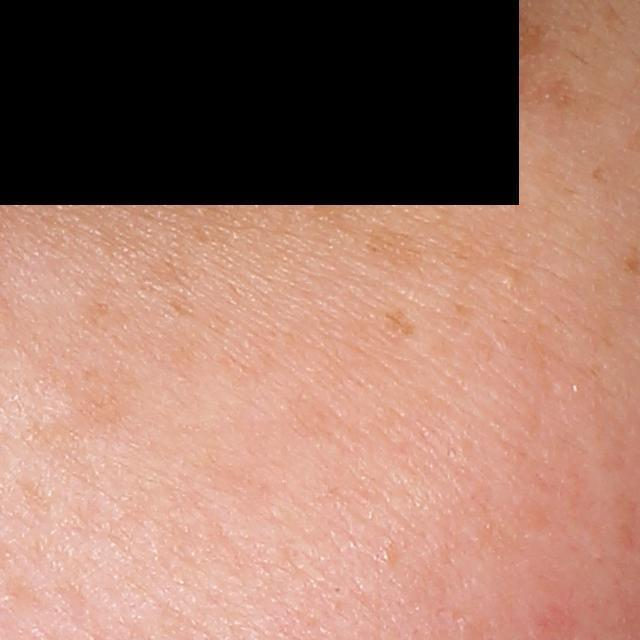comedo: (498, 269, 523, 292)
melasma: (306, 175, 431, 270), (58, 355, 148, 431), (385, 308, 416, 341), (588, 164, 607, 189)
